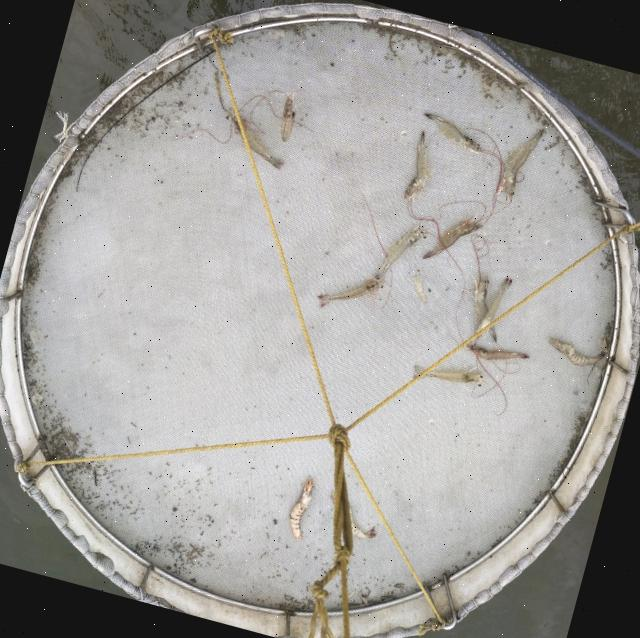shrimp: (494, 129, 543, 200), (374, 228, 425, 285), (231, 117, 282, 169), (423, 218, 481, 259), (424, 113, 481, 151), (476, 277, 511, 338), (317, 278, 381, 308), (403, 132, 428, 199), (549, 338, 606, 366), (473, 279, 497, 341), (289, 478, 312, 541), (414, 364, 482, 385), (467, 345, 529, 360), (280, 92, 294, 142)
